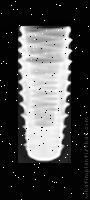Cowellmedi: (16, 26, 71, 163)
